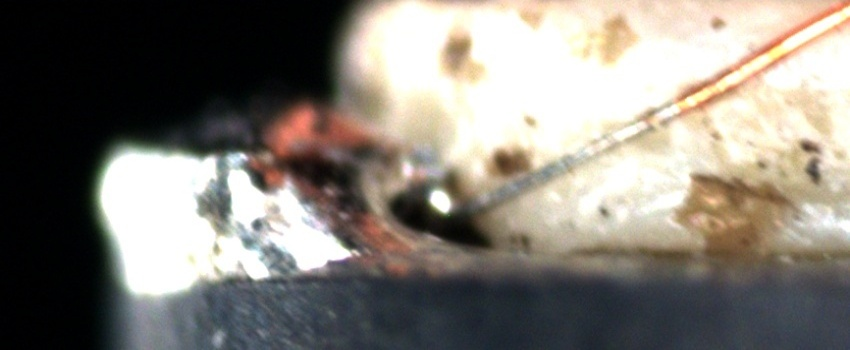TS: (424, 106, 679, 234)
